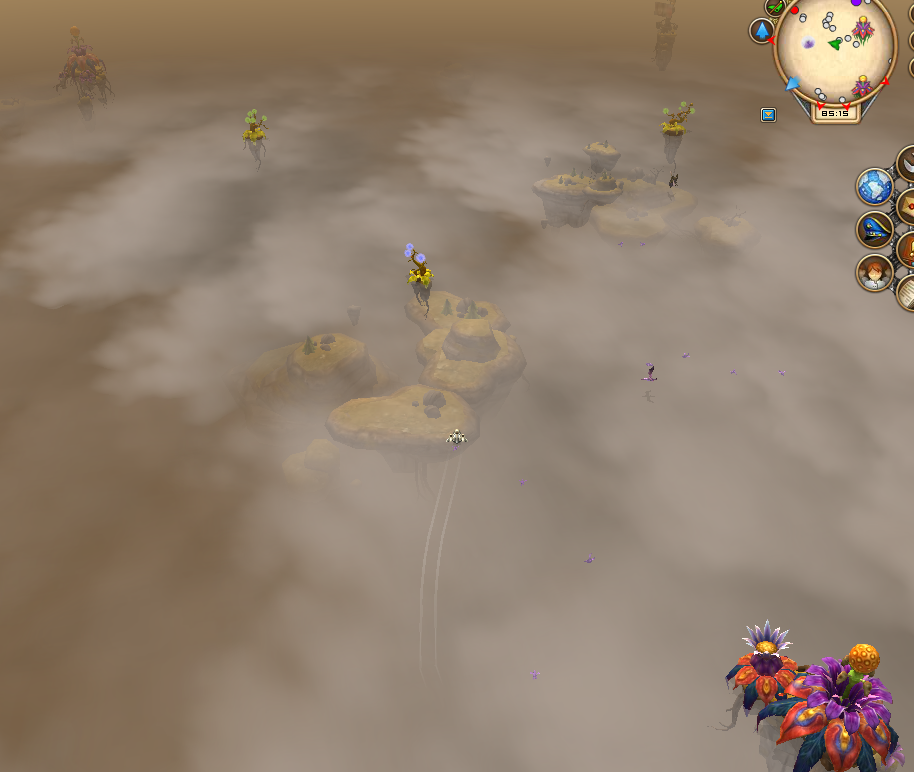dandelion-full: (398, 237, 439, 309), (656, 97, 699, 156), (233, 102, 271, 160)
